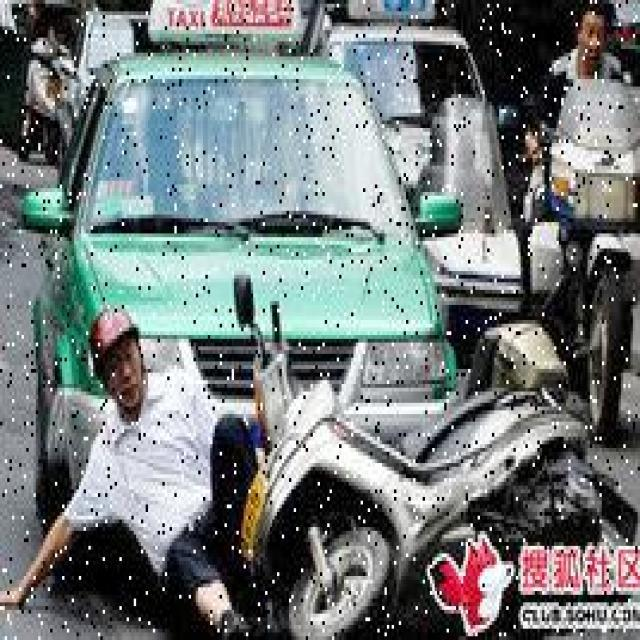fall: (38, 321, 258, 628)
